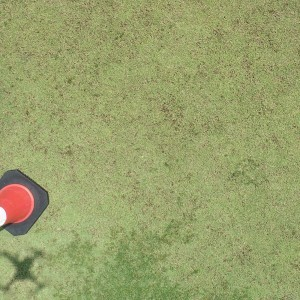traffic cone: (1, 168, 49, 236)
